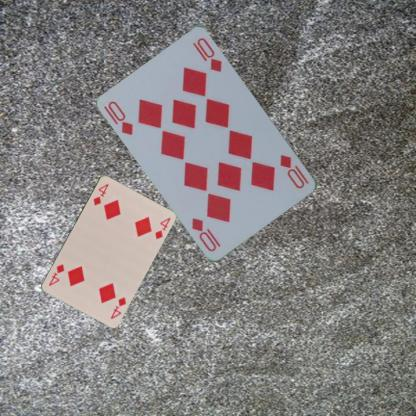10d: (278, 152, 310, 190), (105, 98, 135, 136)
4d: (90, 181, 110, 207), (108, 294, 127, 320)
